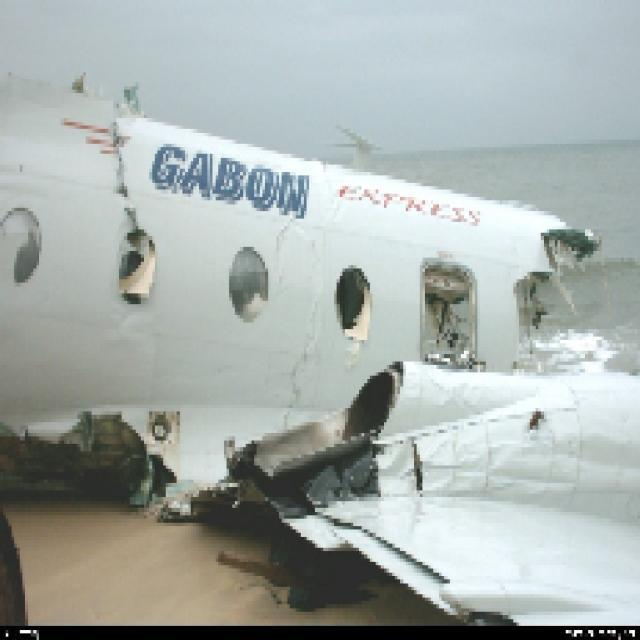crack: (280, 306, 321, 438), (109, 117, 141, 232), (273, 219, 301, 284), (409, 441, 427, 496)
